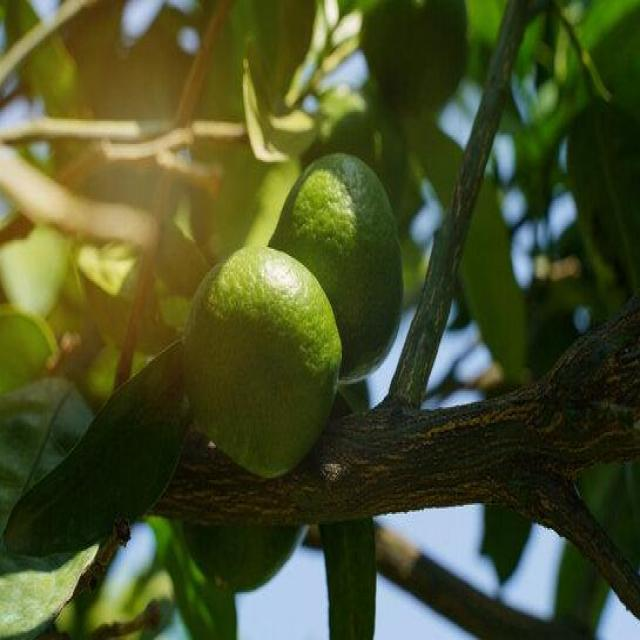Jeruk Belum Matang: (178, 244, 346, 487), (269, 151, 402, 384)
